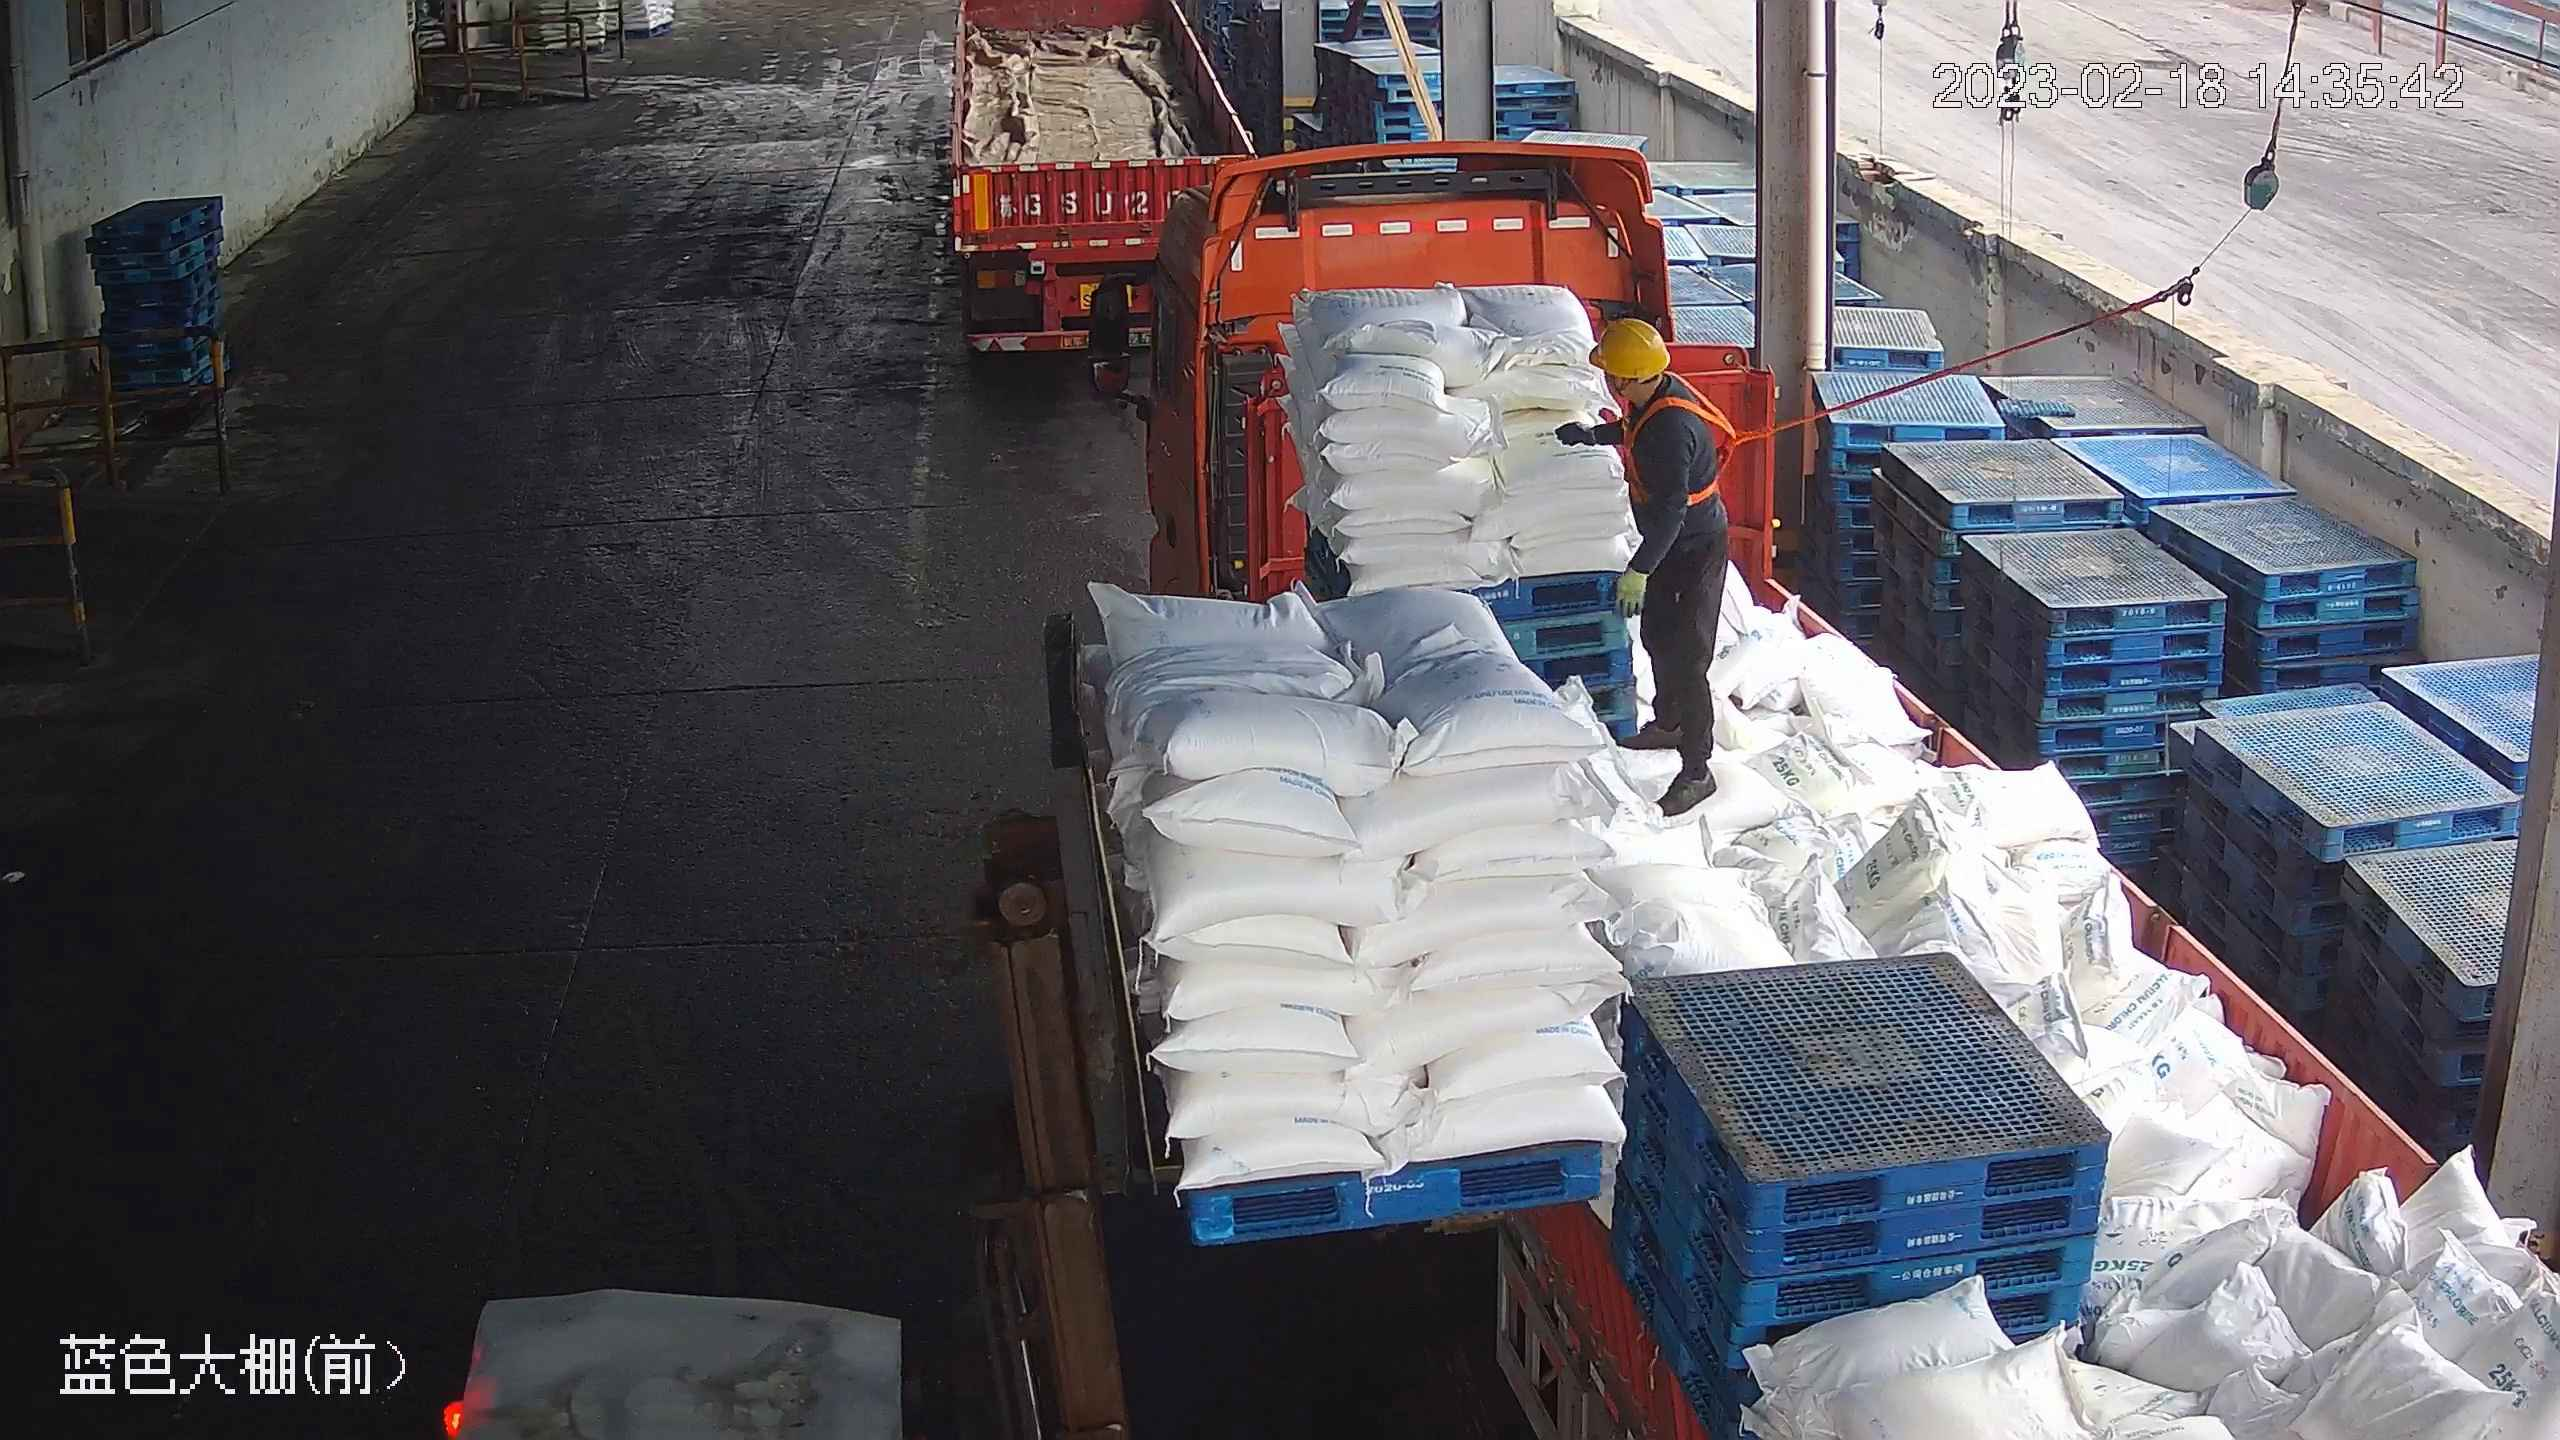belt: (1623, 376, 1764, 506)
head: (1581, 322, 1729, 484)
helmet: (1586, 318, 1674, 383)
people: (1549, 320, 1734, 815)
truck: (1090, 113, 2560, 1440), (944, 1, 1283, 388)
